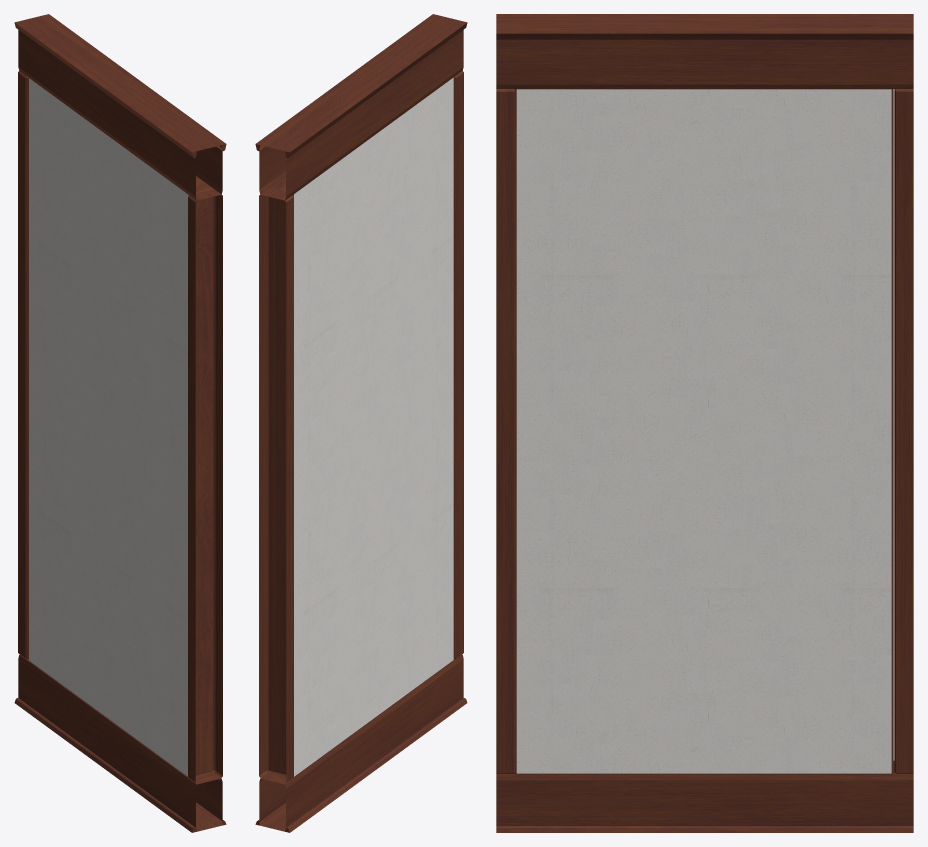
The model's file is SM_WallPaper01H.fbx.
3 views of the same model, side by side, from view 1: azimuth 30°, elevation 25°; view 2: azimuth 150°, elevation 25°; view 3: azimuth 270°, elevation 25° (orthographic). The views are drawn at different scales.
Parts seen in each view (by area): view 1: SM_WallPaper01H; view 2: SM_WallPaper01H; view 3: SM_WallPaper01H.
Part boxes in pixels (bbox=[...]): SM_WallPaper01H: bbox=[14, 14, 226, 832]; SM_WallPaper01H: bbox=[255, 14, 467, 832]; SM_WallPaper01H: bbox=[496, 14, 913, 832].
Bounding box in the file's own units: 12.38 × 110 × 233.
